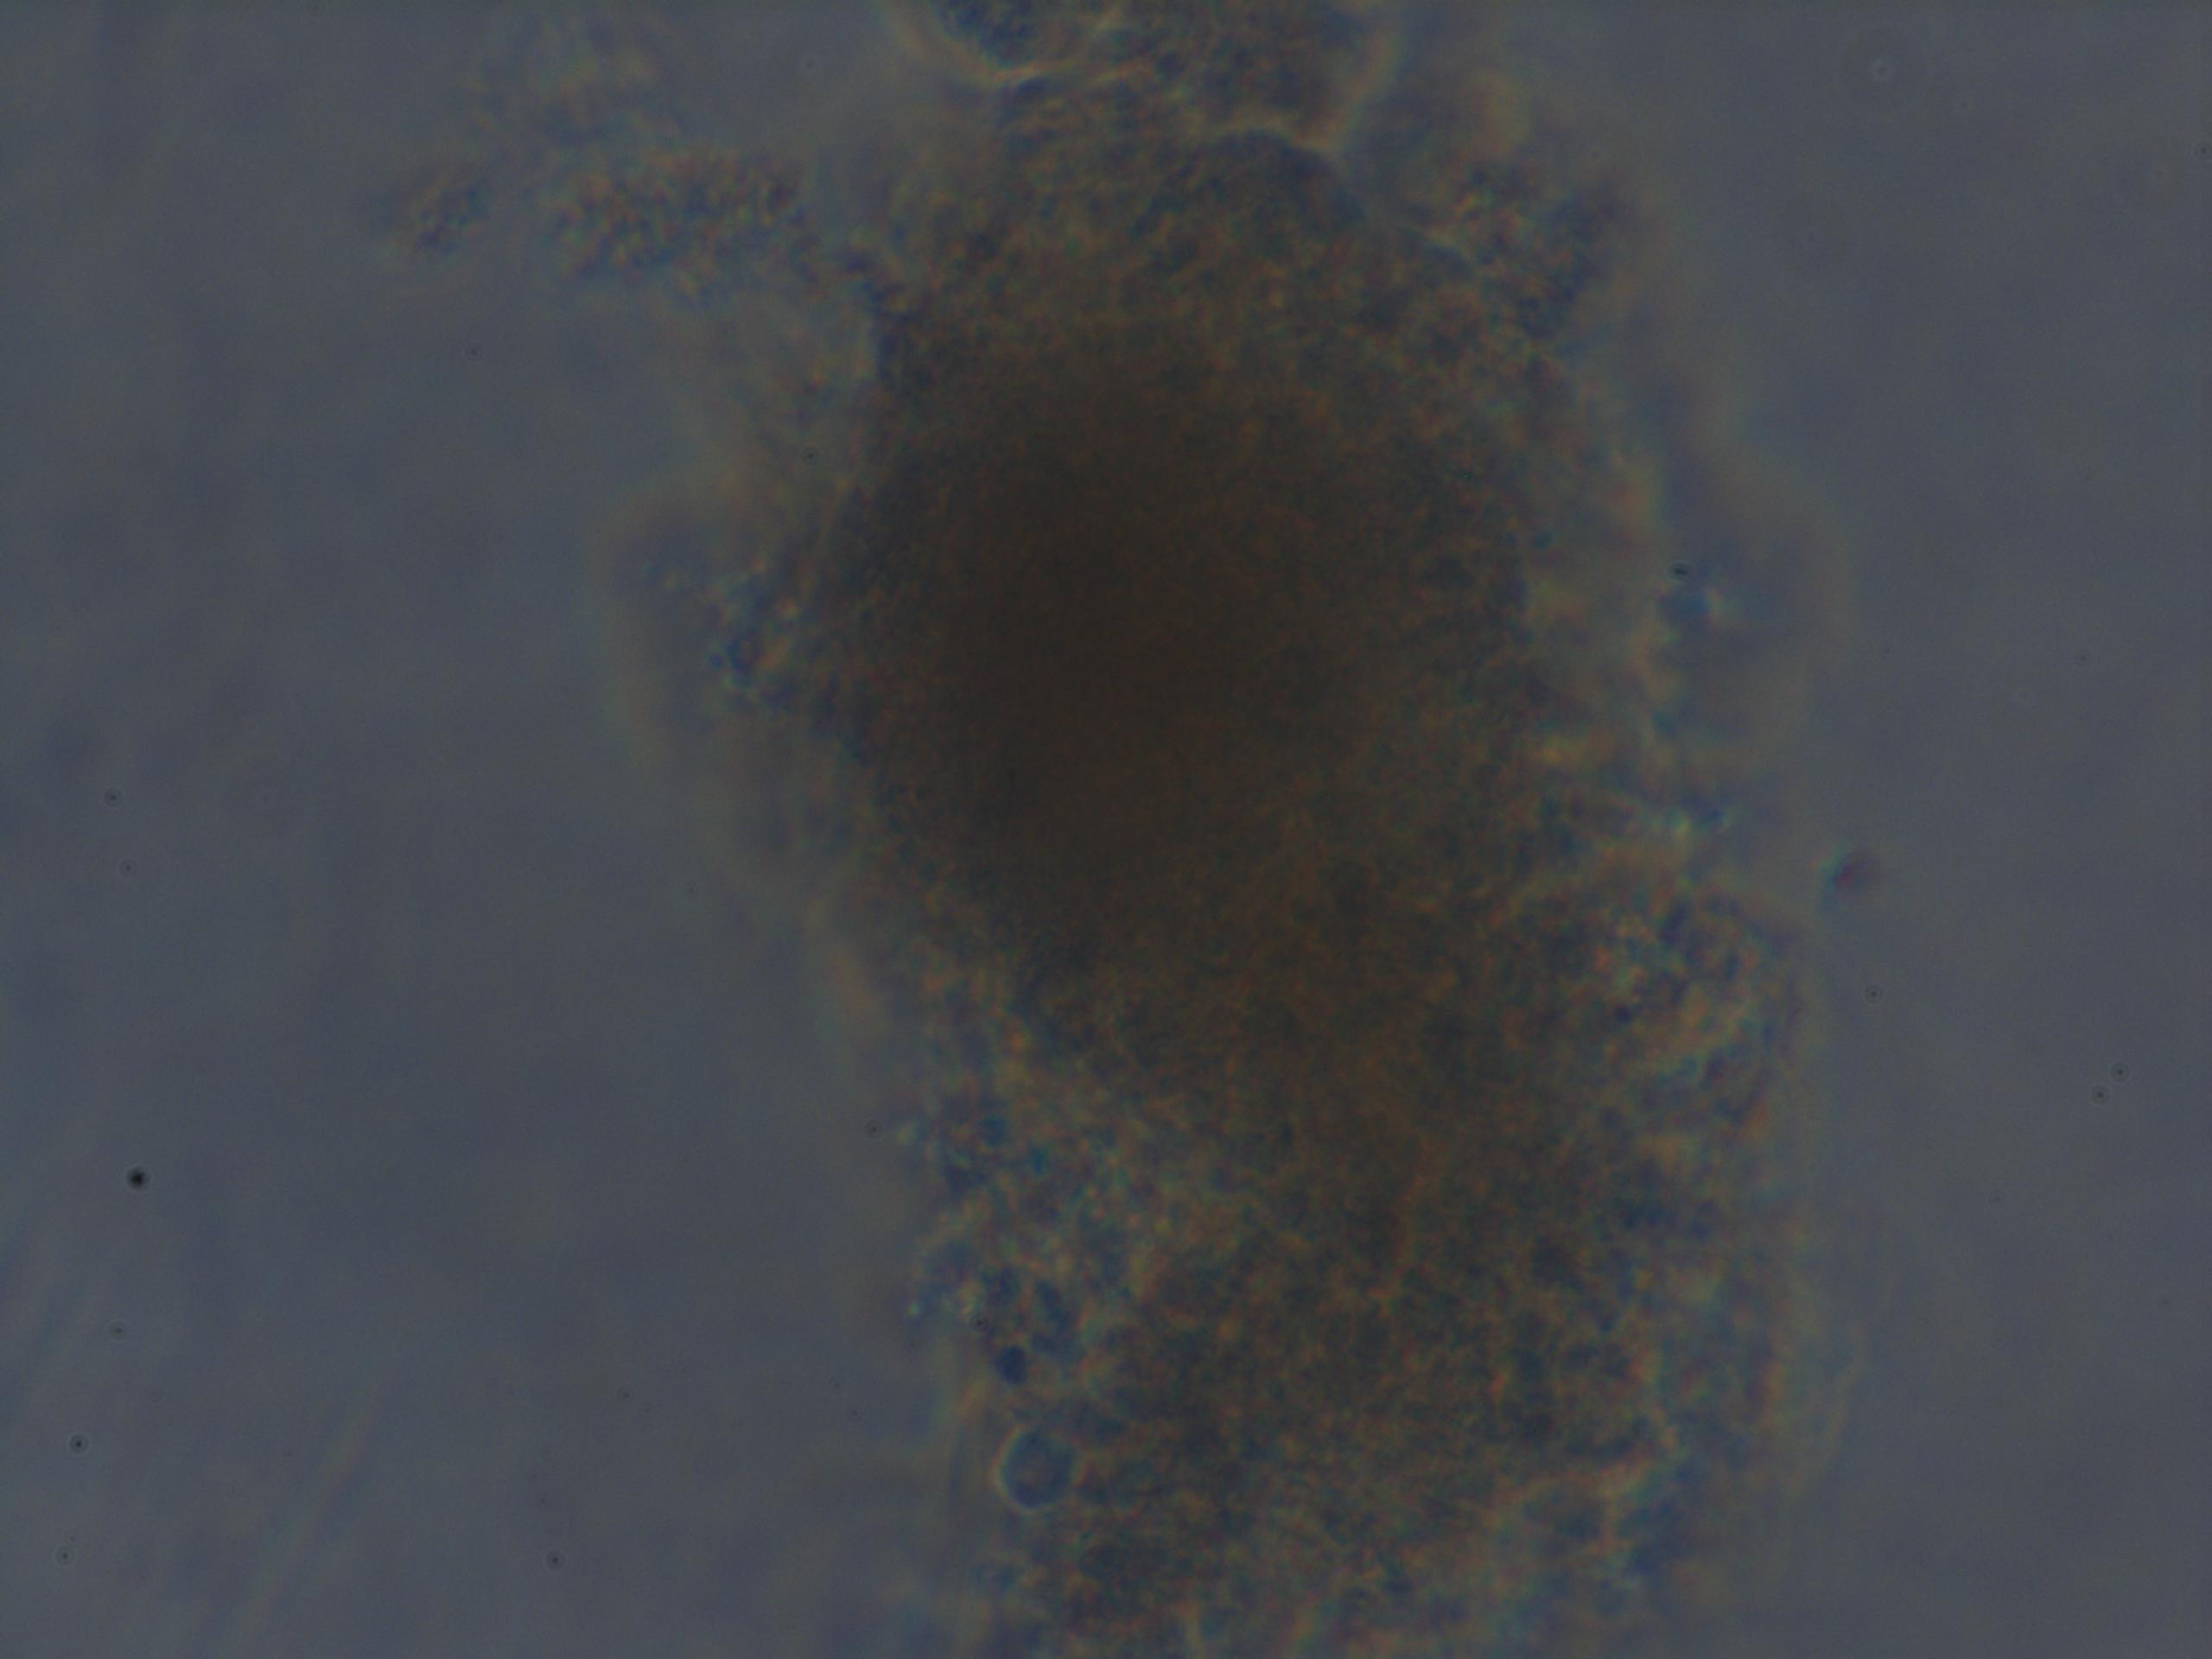spherical_floc: (719, 59, 1740, 1659)
